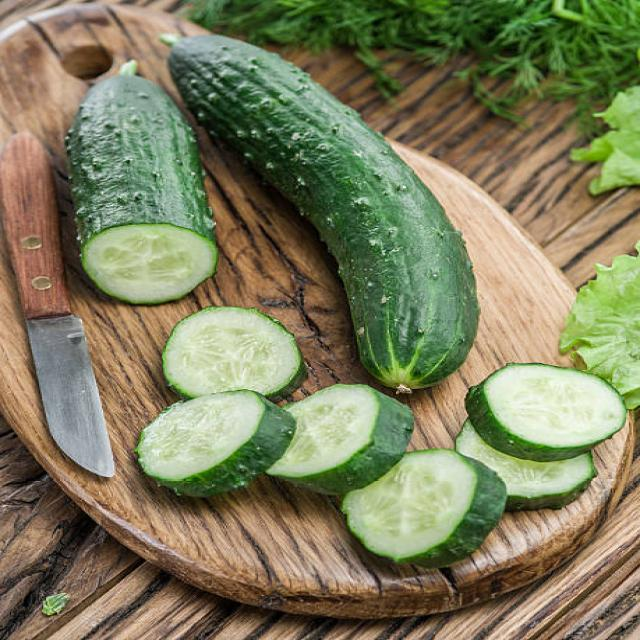cucumber: (166, 35, 483, 392), (63, 70, 216, 306)
